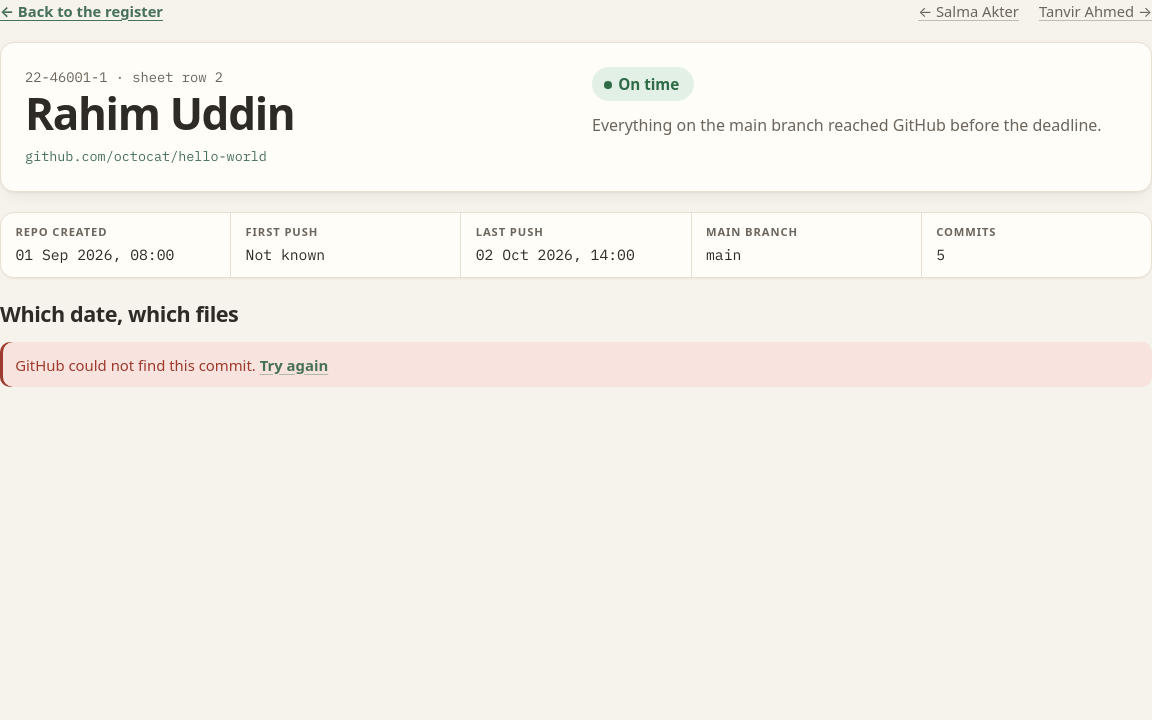
PersonView › shows why the commits could not be loaded, and tries again on request
Check: the message reads "GitHub could not find this commit. Try again", box x1=0 y1=342 x2=1151 y2=387
Step 1. Click the button "Try again" → (294,365), box x1=260 y1=354 x2=328 y2=376
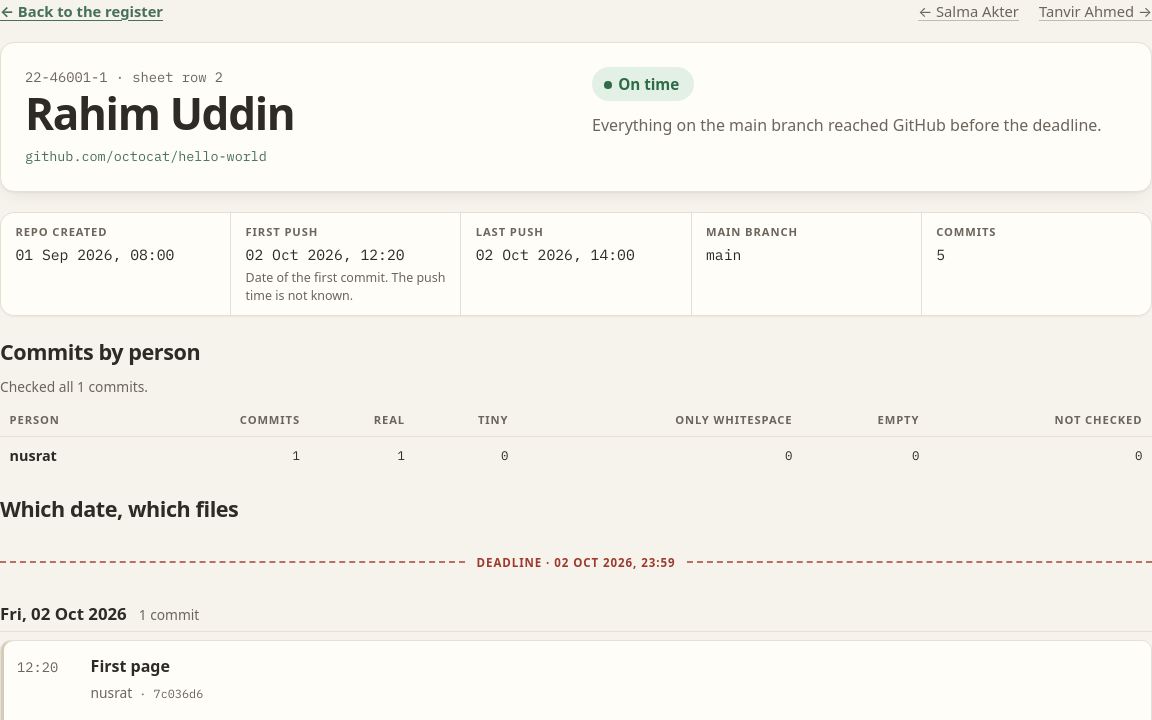
Check: the link "First page" is shown, box x1=91 y1=654 x2=170 y2=678
